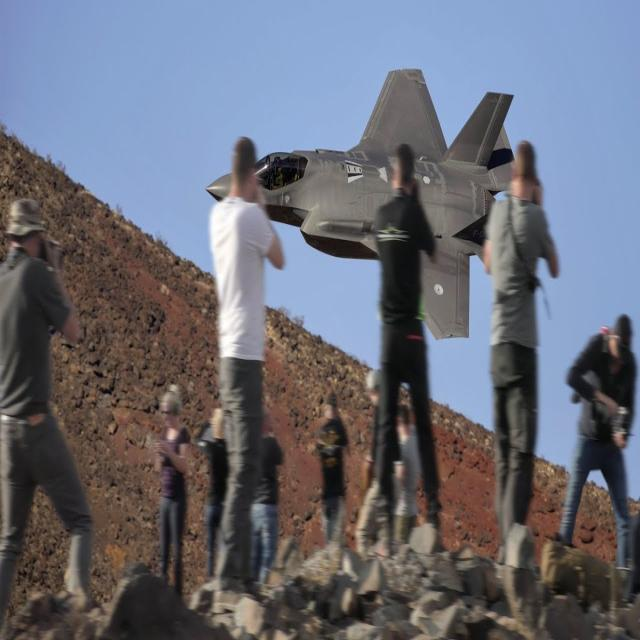MIL_Plane: (205, 68, 516, 340)
